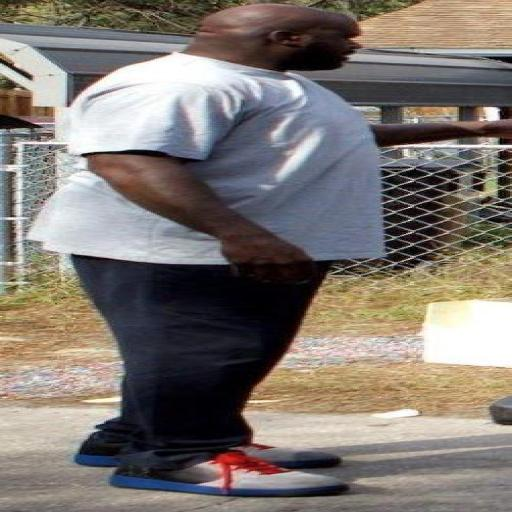person: (31, 4, 511, 496)
